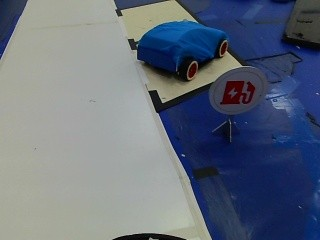battery: (212, 69, 265, 116)
car: (132, 19, 231, 78)
